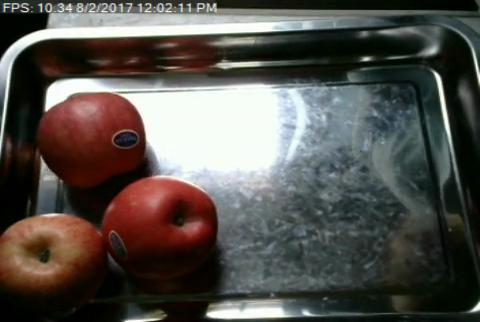apple: (104, 175, 217, 276), (0, 212, 103, 313), (37, 92, 145, 184)
